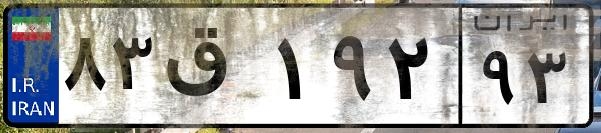1: (270, 28, 330, 110)
2: (385, 28, 445, 110)
3: (525, 38, 570, 115), (110, 28, 158, 98)
8: (57, 26, 110, 100)
9: (330, 28, 385, 110), (475, 38, 525, 113)
ق: (158, 20, 270, 120)
